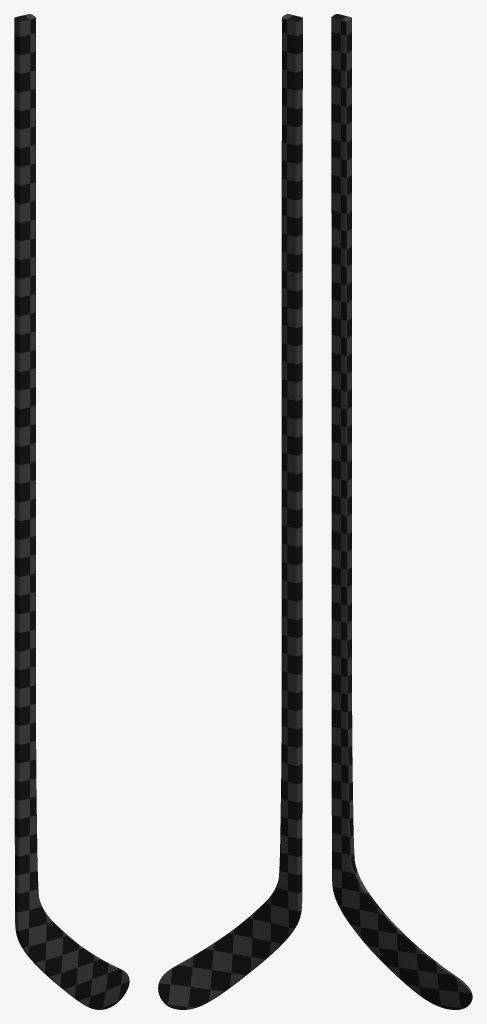
3 views of the same model, side by side, from view 1: azimuth 30°, elevation 25°; view 2: azimuth 150°, elevation 25°; view 3: azimuth 330°, elevation 25° (orthographic). The views are drawn at different scales.
Parts seen in each view (by area): view 1: geometry_0; view 2: geometry_0; view 3: geometry_0.
Boxes of the visible parts, x1,y1,x2,y2 form: geometry_0: [14, 14, 129, 1009]; geometry_0: [158, 14, 302, 1009]; geometry_0: [331, 14, 472, 1009].
Size of the model in its own units: 218 by 1650 by 62.36.
Materials: 1 (1 with a texture image).
